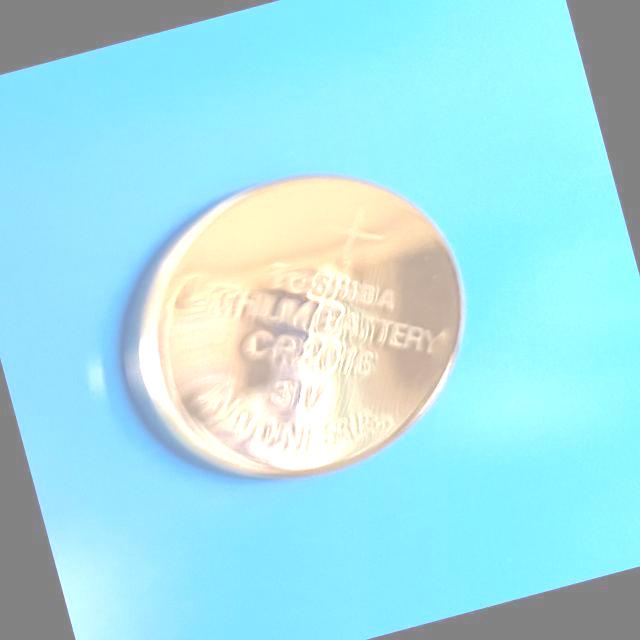COIN: (80, 138, 497, 517)
